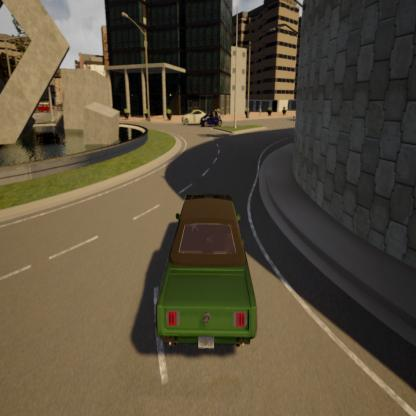Cars: (154, 186, 266, 365), (200, 110, 224, 129), (182, 108, 207, 126)
